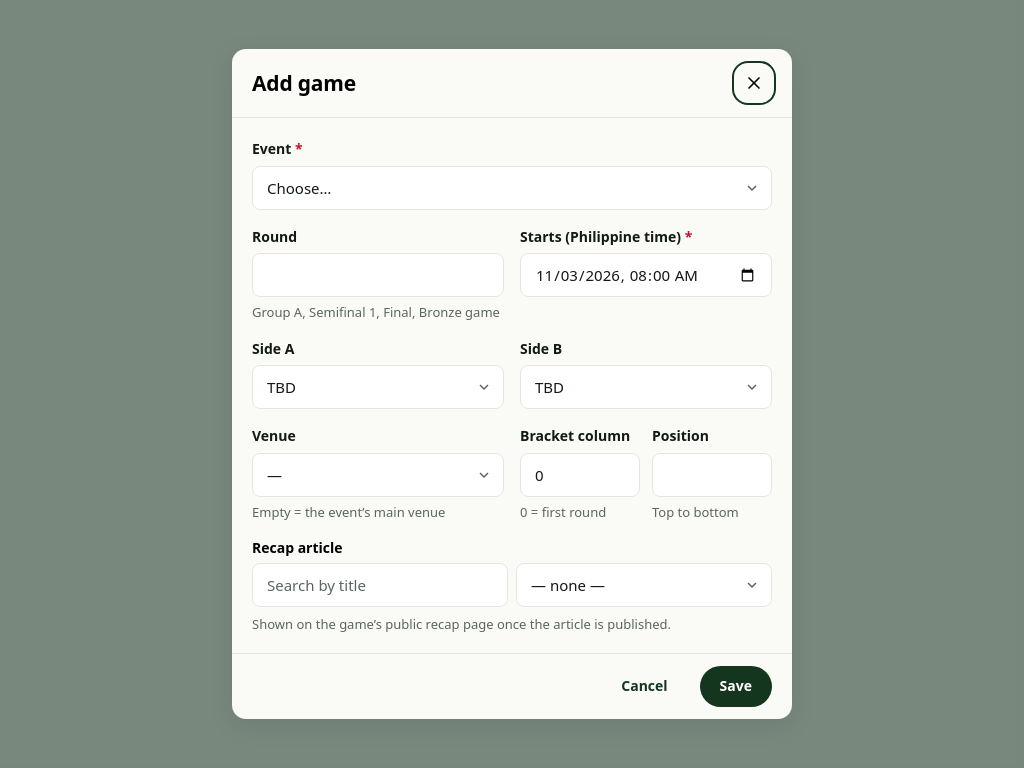
Test: game details form › sends timed and judged events to Create contest
The image size is (1024, 768).
Select "Athletics · 100m Dash · Women" in the dropdown labelled "Event *": (512, 188) [252,166,772,210]
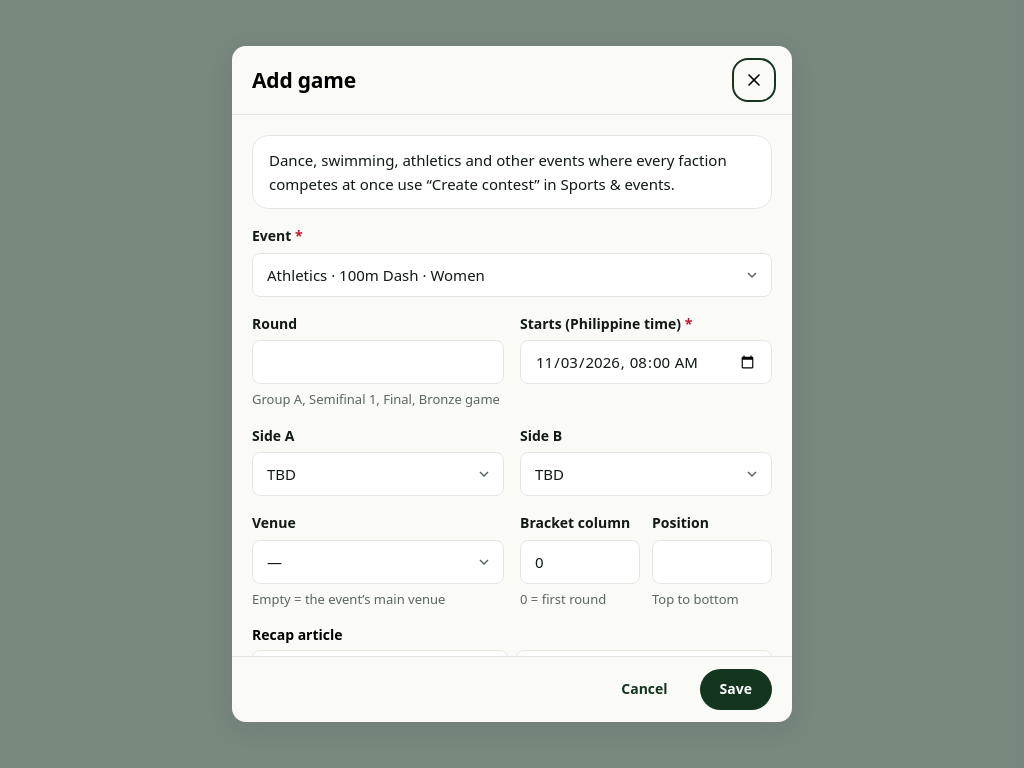
Now the text "use “Create contest”" is shown, box [269,150,727,194]
